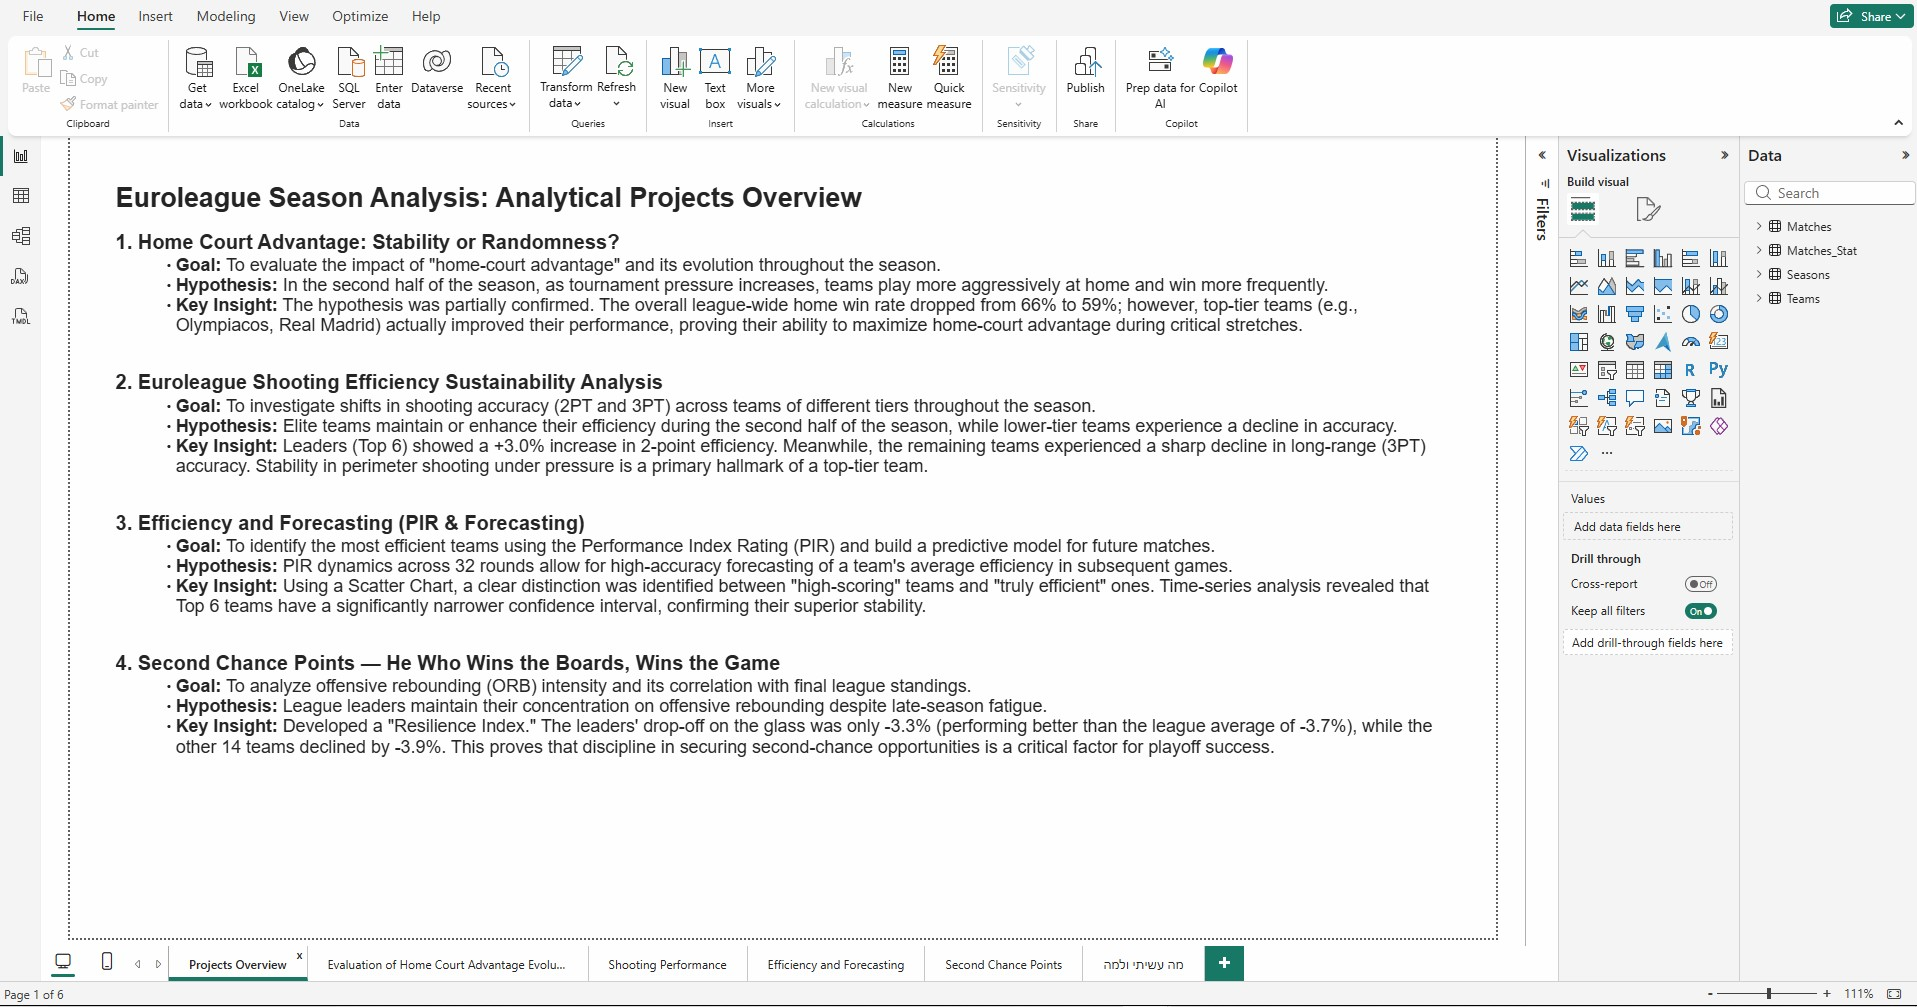

This screenshot's page, from the dashboard's own definition file:
{"tool":"powerbi","page":{"name":"Projects Overview","canvas":[1280,720],"ordinal":0},"visuals":[{"type":"textbox","box":[36.2,39.1,1215.1,611.4],"z":0}]}

Visuals, with their boxes on the page's 1280x720 design canvas (x1, y1, x2, y2). These are canvas units, not pixel positions in the 1917x1007 screenshot, which may show the page scaled, cropped or inside an application window:
textbox: crop(36, 39, 1251, 650)
